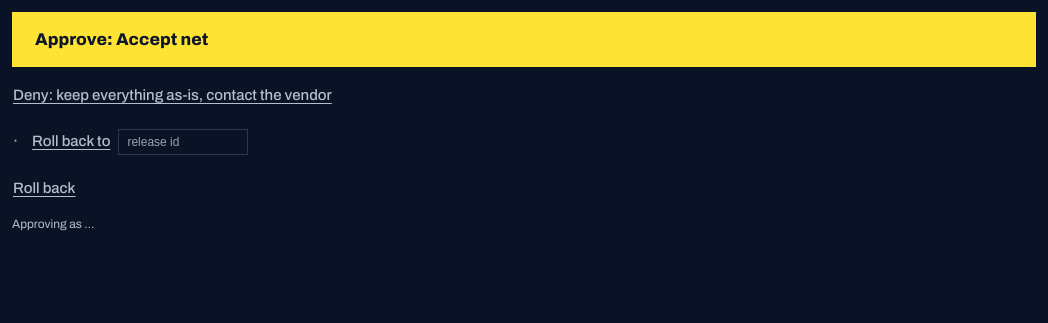
Test: RepairActions › escalation with a model proposal shows Approve with the model label plus Deny (REQ-049)
The width and height of the screenshot is (1048, 323).
Expected: the button with test id "repair-deny-btn" shows "Deny: keep everything as-is", [12, 77, 1036, 114]
Click the button with test id "repair-approve-proposal-btn" at (122,40), box [12, 12, 1036, 67]
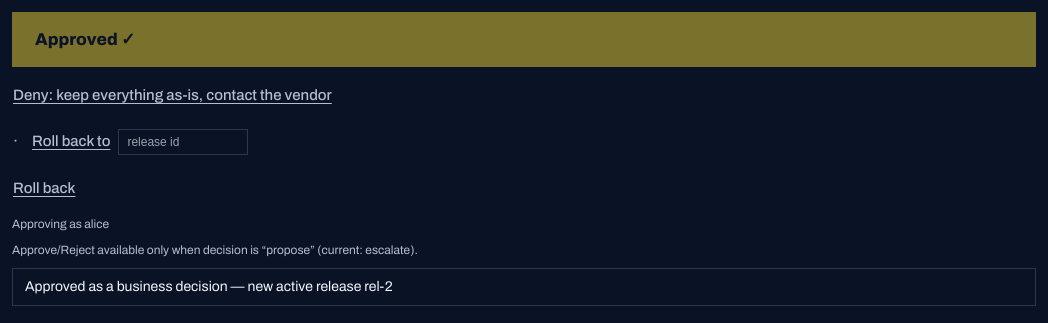
Expected: the text with test id "repair-action-success" shows "business decision", [25, 279, 393, 294]
